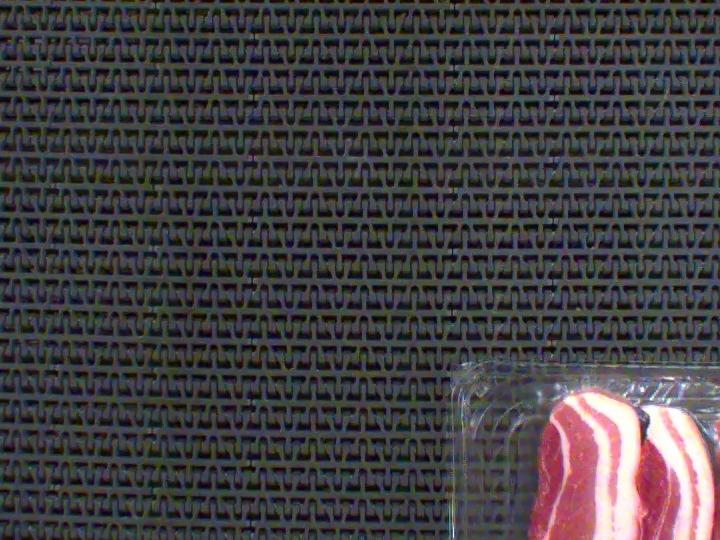unsealed: (467, 372, 720, 540)
